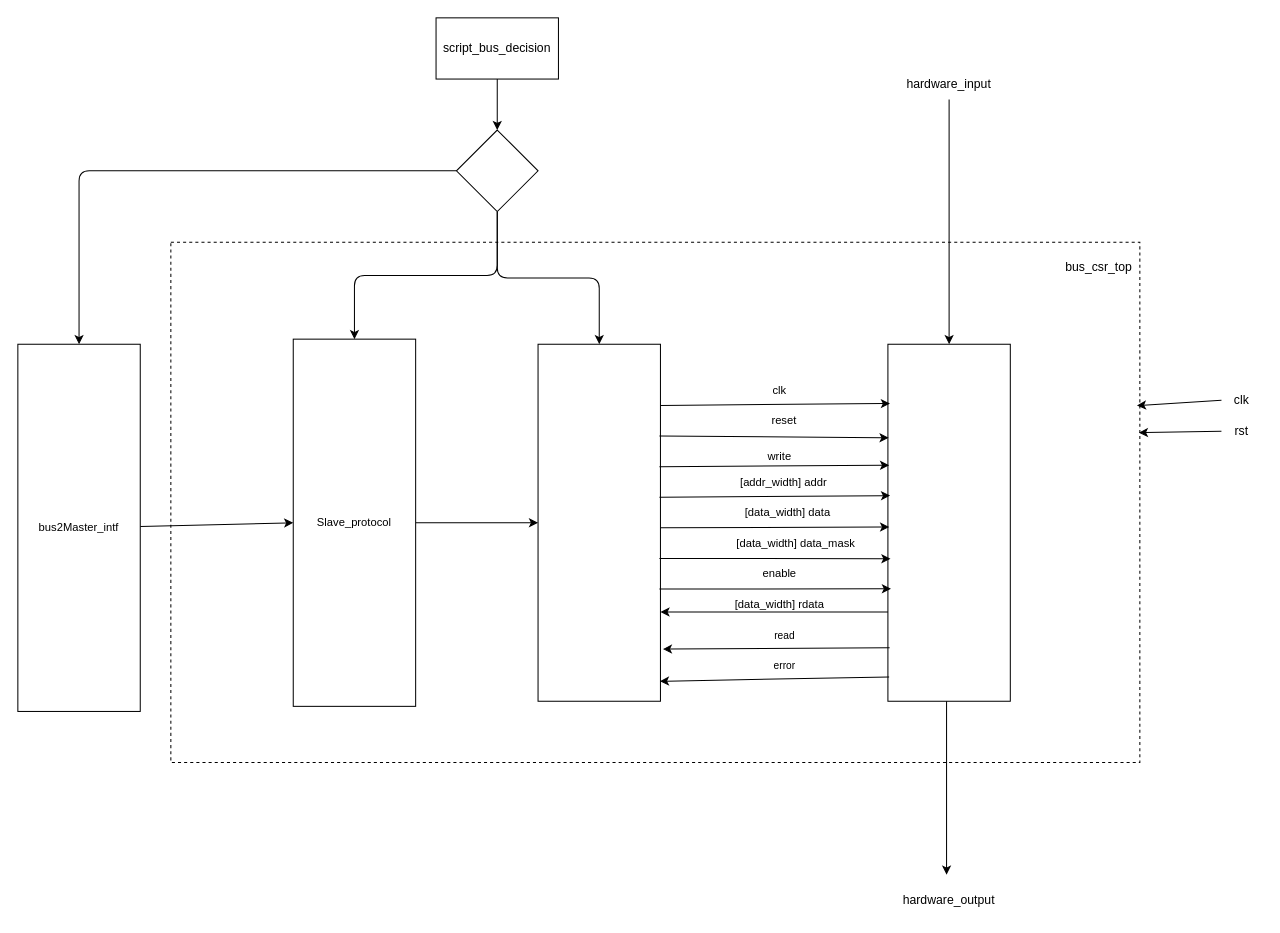
Some shapes in this 1280 by 933 pixel diagram are drawn without their labels. Here are the shapes that lost their labels. From the top down, the centre of each, then its label:
At point (496, 170): "instancia".
At point (598, 522): "bus2Reg_intf".
